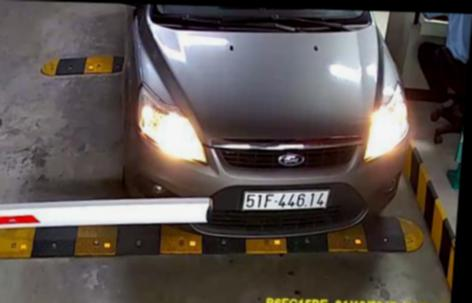License_Plate: (238, 185, 332, 213)
